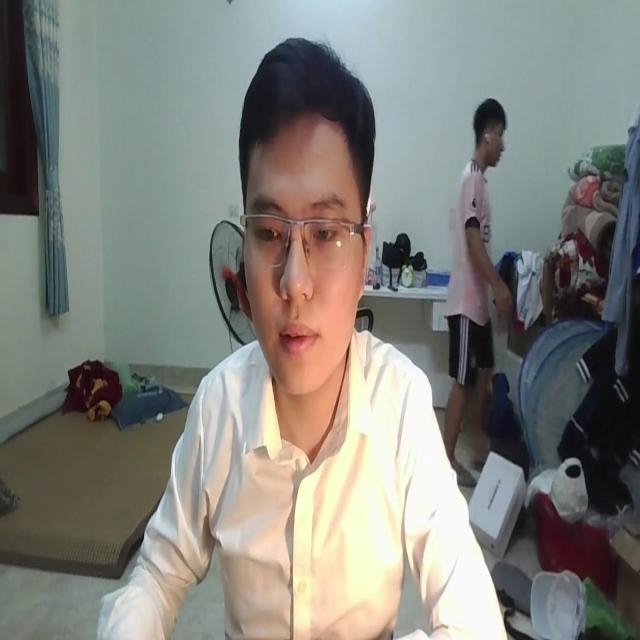extra_person: (437, 85, 506, 497)
student: (100, 32, 507, 640)
